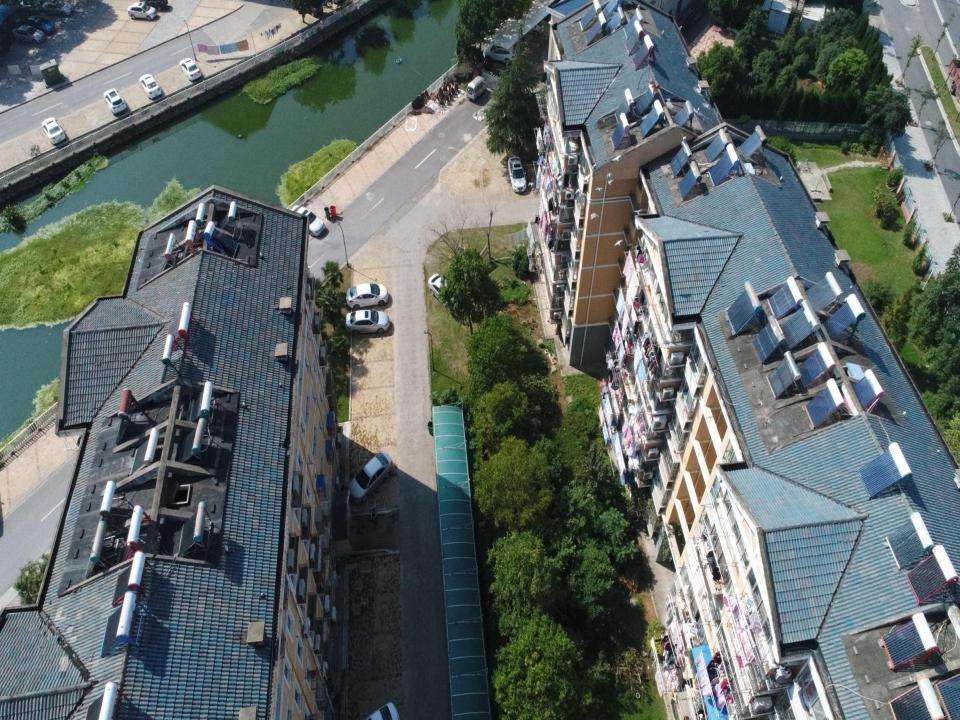car: (348, 450, 392, 502), (427, 273, 460, 309), (288, 205, 325, 236), (345, 309, 390, 334), (346, 282, 388, 308), (482, 43, 516, 67), (508, 155, 527, 193), (41, 117, 66, 145), (364, 701, 402, 719), (103, 88, 127, 116), (12, 24, 45, 43), (26, 14, 55, 35), (139, 74, 162, 100), (128, 2, 158, 21), (179, 58, 202, 82), (41, 0, 73, 16), (520, 20, 544, 36), (139, 0, 169, 11)
van: (466, 75, 488, 102)
